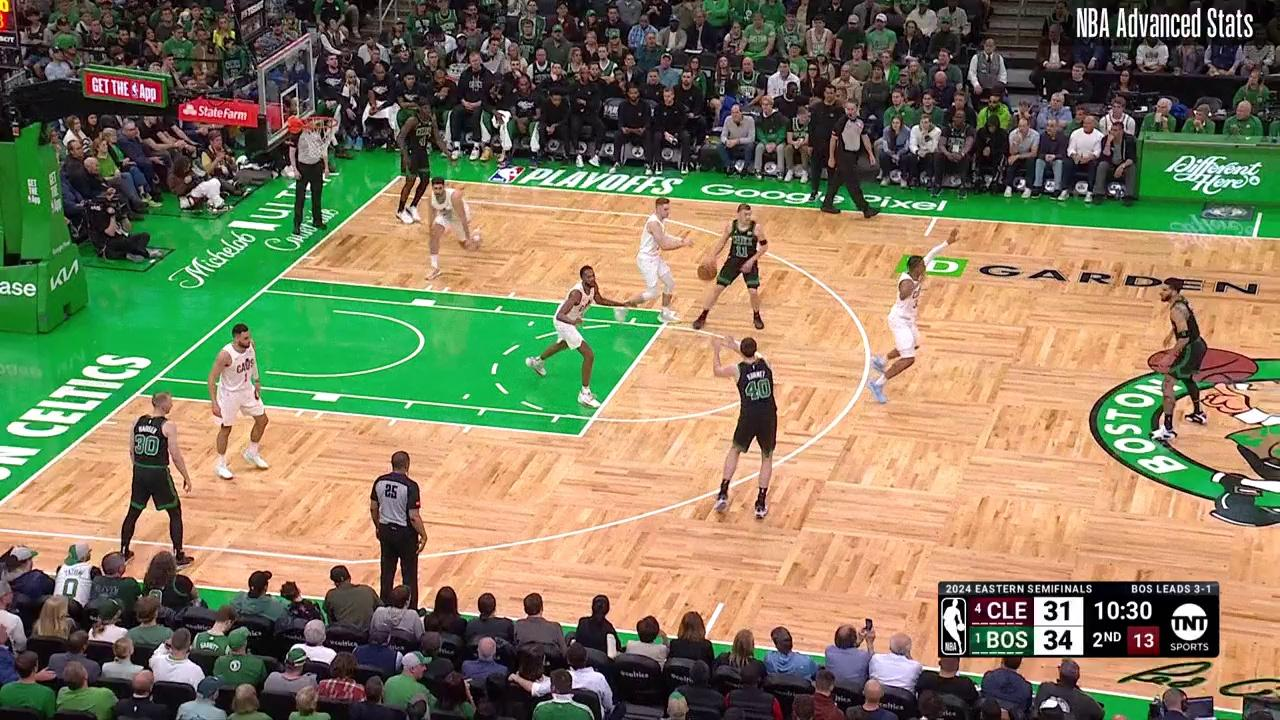3_dx: (374, 187, 387, 199)
b_dx: (392, 171, 405, 182)
free_adx: (666, 307, 679, 317)
free_asx: (573, 431, 585, 442)
free_bdx: (273, 272, 287, 284)
free_bsx: (129, 388, 144, 400)
mid_dx: (921, 231, 931, 240)
mid_sx: (715, 599, 726, 607)
referee: (371, 448, 429, 607), (823, 97, 880, 217), (287, 121, 330, 237)
team: (118, 390, 195, 570), (714, 334, 776, 518), (1150, 275, 1207, 443), (695, 201, 766, 333), (395, 103, 449, 223)
team1: (862, 228, 961, 401), (528, 265, 636, 407), (611, 192, 692, 326), (209, 324, 272, 476), (426, 176, 480, 285)
timer: (1088, 593, 1154, 623)
